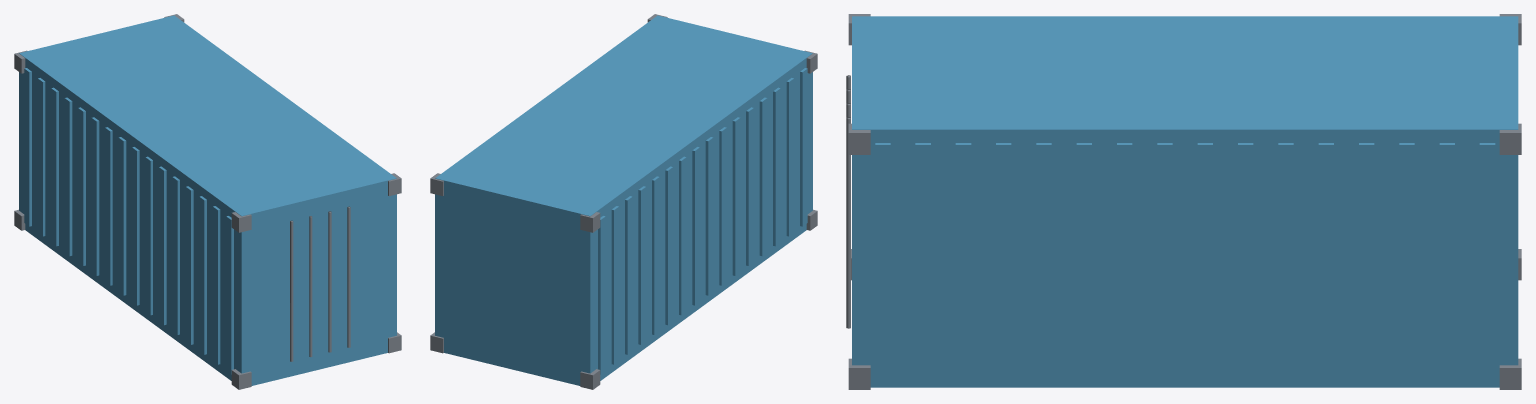
Rendered from urb_shipping_container.glb.
3 renders of one model, left to right at view 1: azimuth 30°, elevation 25°; view 2: azimuth 150°, elevation 25°; view 3: azimuth 270°, elevation 25°, orthographic. The views are drawn at different scales.
Parts seen in each view (by area): view 1: container, trim; view 2: container, trim; view 3: container, trim.
Part boxes in pixels (x1,y1,x2,y2): container: (19,15,396,385); trim: (14,14,401,389); container: (435,15,812,385); trim: (430,14,817,389); container: (852,16,1518,387); trim: (846,14,1521,389).
Size of the model in its own units: 2.56 by 2.59 by 6.14.
